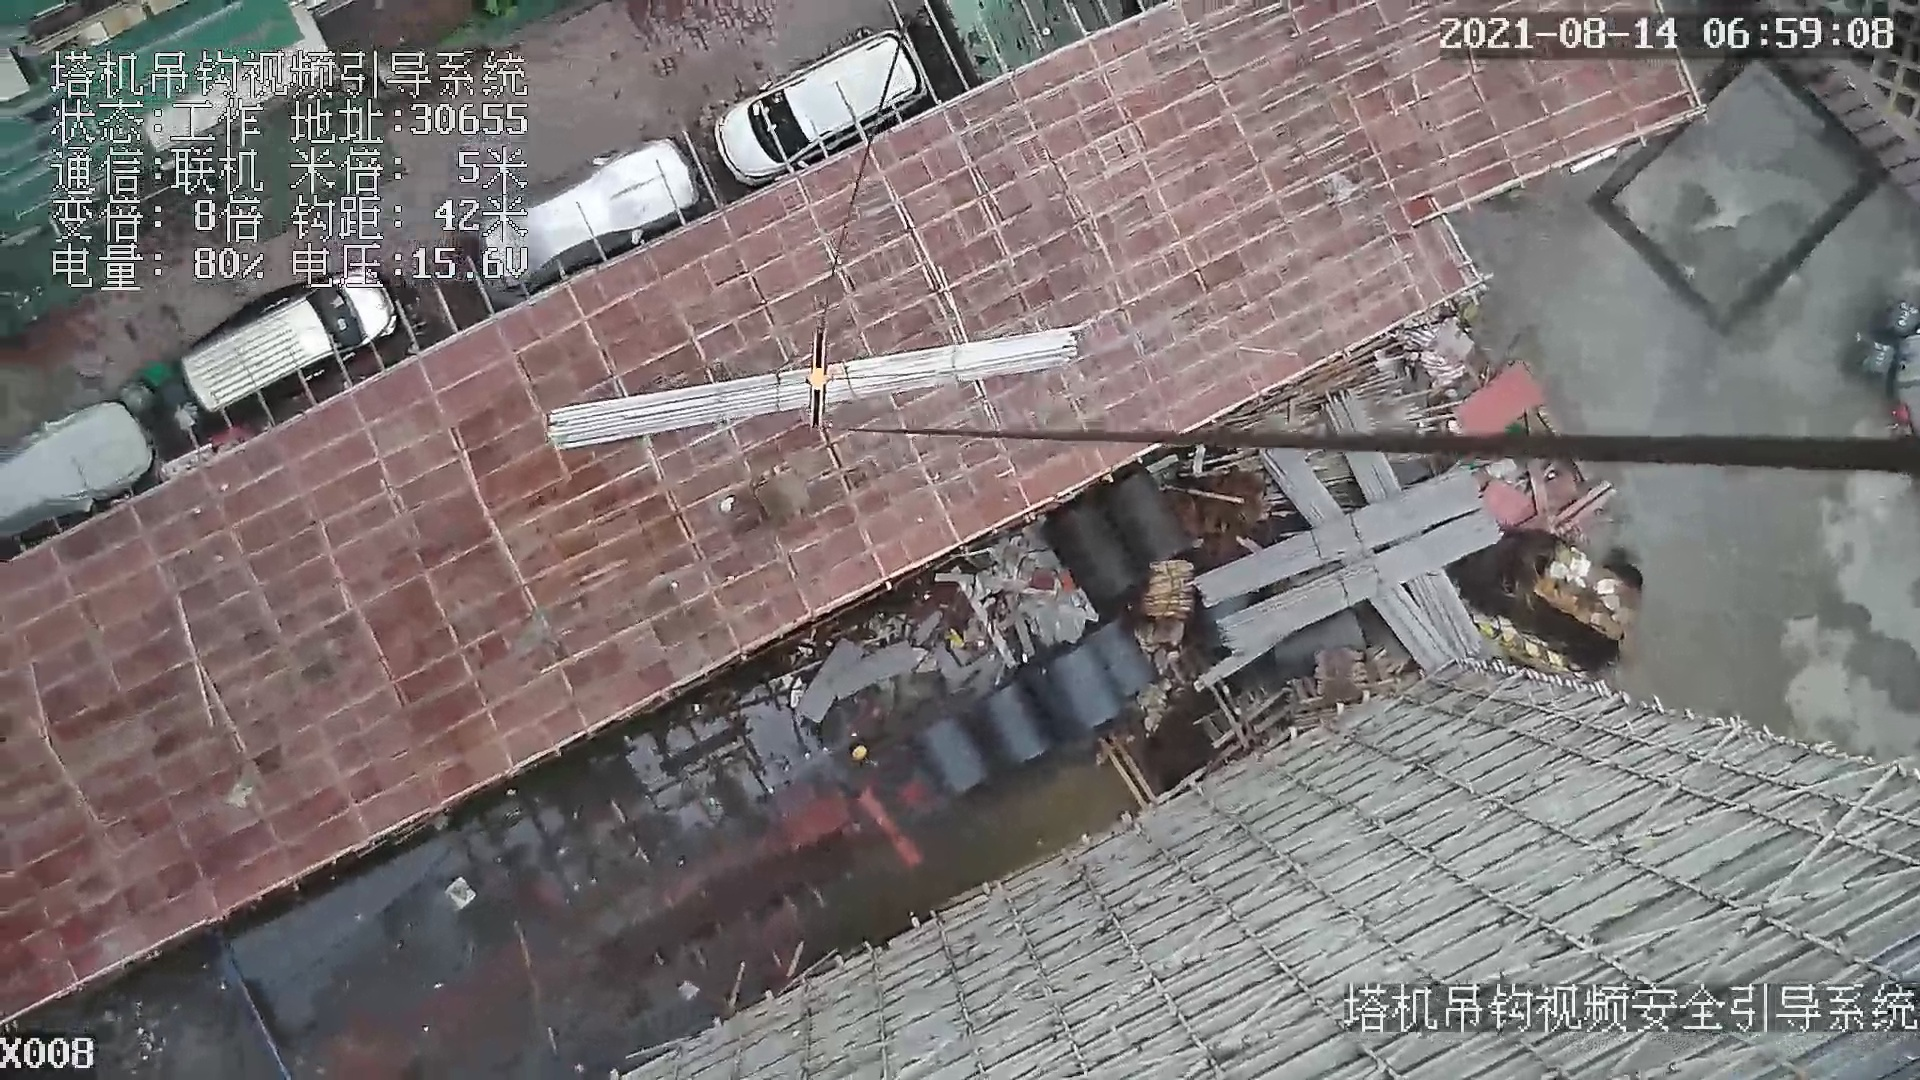hook: (799, 326, 840, 433)
rebar: (546, 324, 1085, 458), (1263, 446, 1451, 673), (1327, 389, 1481, 662), (1217, 506, 1502, 653), (1197, 464, 1481, 607)
wood: (1143, 560, 1195, 618)
